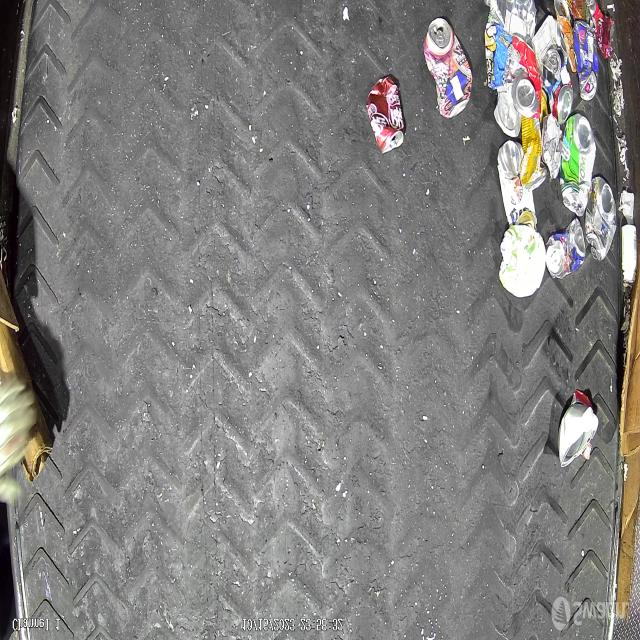can: (423, 17, 472, 119), (560, 113, 596, 217), (496, 140, 536, 232), (503, 34, 541, 119), (366, 74, 405, 154), (520, 88, 547, 192), (585, 176, 617, 261), (546, 217, 585, 280), (574, 20, 599, 100), (489, 0, 537, 40), (585, 0, 614, 60), (547, 66, 573, 125), (494, 86, 521, 138), (542, 46, 565, 84)
